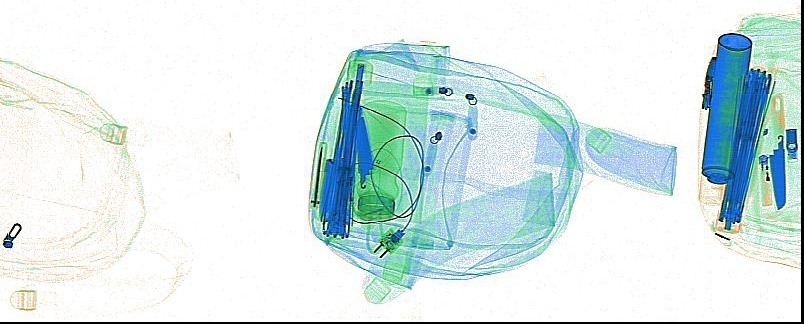knife: (767, 92, 787, 208), (355, 117, 373, 221), (316, 156, 336, 221), (310, 140, 327, 208)
lighter: (756, 153, 773, 207)
pressure: (698, 32, 752, 205)
